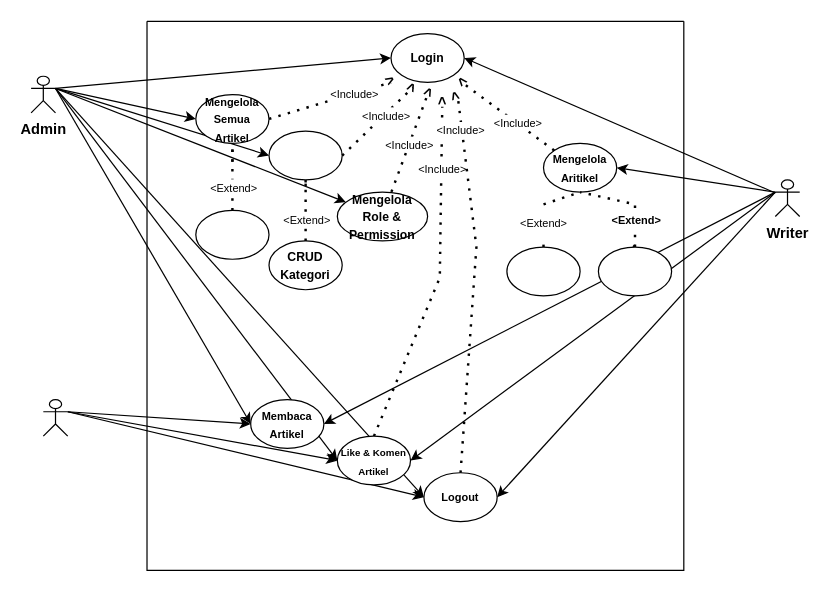
Image size: 830x592. Some labels were removed from this diagram. The shapes that lost their labels are listed below. From the top down, each one's centre as x and y in pixels, then its label:
At [305,155]: "Mengelola Kategori".
At [232,234]: "Approve dan Rejected".
At [543,271]: "CRUD Article".
At [634,271]: "Melihat Penghasilan".
At [55,417]: "Guest".
